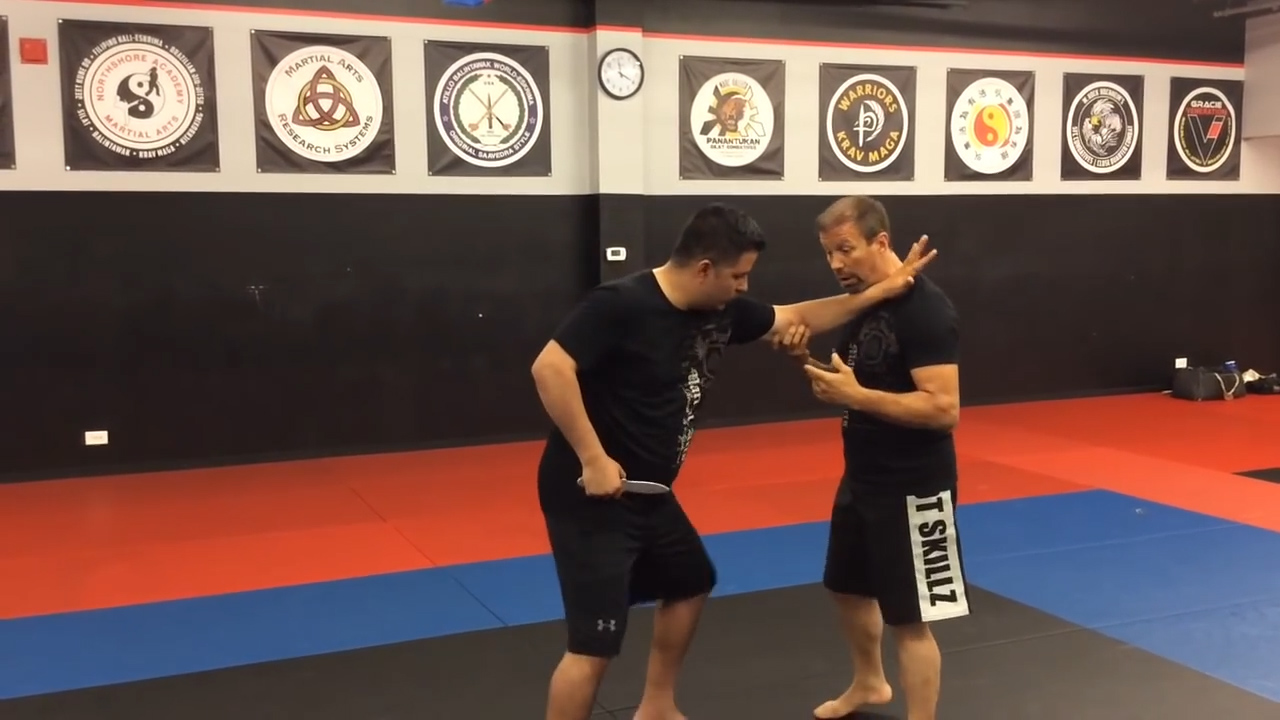knife: (572, 468, 676, 502)
